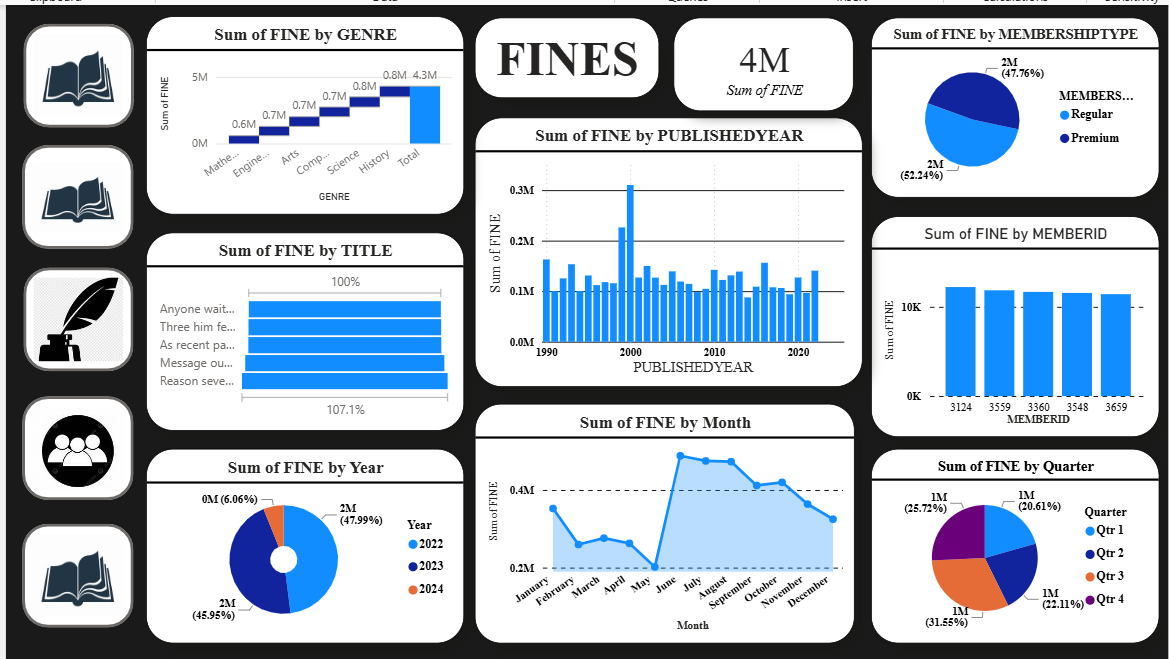

The dashboard page shown, as its layout file describes it:
{"tool":"powerbi","page":{"name":"Page 5","canvas":[1280,720],"ordinal":5},"visuals":[{"type":"funnel","fields":{"Category":["2025-06-02 11_23am (2).TITLE"],"Y":["Sum(2025-06-02 11_23am.FINE)"]},"box":[154.3,250,350,218.6],"z":0},{"type":"pieChart","fields":{"Category":["2025-06-02 11_23am (3).MEMBERSHIPTYPE"],"Y":["Sum(2025-06-02 11_23am.FINE)"]},"box":[952.6,13.5,317.5,198.2],"z":1000},{"type":"clusteredColumnChart","fields":{"Y":["Sum(2025-06-02 11_23am.FINE)"],"Category":["2025-06-02 11_23am.MEMBERID"]},"box":[953,232.3,317.2,243.5],"z":2000},{"type":"donutChart","fields":{"Category":["2025-06-02 11_23am.ISSUEDATE.Variation.Date Hierarchy.Year"],"Y":["Sum(2025-06-02 11_23am.FINE)"]},"box":[154.3,488.6,350,214.3],"z":3000},{"type":"pieChart","fields":{"Category":["2025-06-02 11_23am.ISSUEDATE.Variation.Date Hierarchy.Quarter"],"Y":["Sum(2025-06-02 11_23am.FINE)"]},"box":[953,488.3,317.2,214.3],"z":4000},{"type":"areaChart","fields":{"Y":["Sum(2025-06-02 11_23am.FINE)"],"Category":["2025-06-02 11_23am.ISSUEDATE.Variation.Date Hierarchy.Month"]},"box":[515.7,438.6,418.6,264.3],"z":5000},{"type":"clusteredColumnChart","fields":{"Y":["Sum(2025-06-02 11_23am.FINE)"],"Category":["2025-06-02 11_23am (2).PUBLISHEDYEAR"]},"box":[515.7,124.3,427.1,297.1],"z":6000},{"type":"waterfallChart","fields":{"Category":["2025-06-02 11_23am (2).GENRE"],"Y":["Sum(2025-06-02 11_23am.FINE)"]},"box":[154.3,12.9,350,218.6],"z":7000},{"type":"card","fields":{"Values":["Sum(2025-06-02 11_23am.FINE)"]},"box":[735.7,14.3,198.6,102.9],"z":8000},{"type":"textbox","box":[515.7,14.3,202.9,88.6],"z":9000},{"type":"actionButton","box":[18.9,20,121.4,114.3],"z":10000},{"type":"actionButton","box":[17.9,430.9,122.5,114.3],"z":11000},{"type":"actionButton","box":[17.9,571.3,122.5,114.3],"z":12000},{"type":"actionButton","box":[19.3,289.1,121.1,114.3],"z":13000},{"type":"actionButton","box":[17.9,154.2,122.5,114.3],"z":14000}]}

Visuals, with their boxes in screenshot pixels (x1, y1, x2, y2), scaled from the page's 1280x720 canvas onto the 1169x659 screenshot:
funnel - 2025-06-02 11_23am (2).TITLE x Sum(2025-06-02 11_23am.FINE): bbox(141, 229, 461, 429)
pieChart - 2025-06-02 11_23am (3).MEMBERSHIPTYPE x Sum(2025-06-02 11_23am.FINE): bbox(870, 12, 1160, 194)
clusteredColumnChart - Sum(2025-06-02 11_23am.FINE) x 2025-06-02 11_23am.MEMBERID: bbox(870, 213, 1160, 435)
donutChart - 2025-06-02 11_23am.ISSUEDATE.Variation.Date Hierarchy.Year x Sum(2025-06-02 11_23am.FINE): bbox(141, 447, 461, 643)
pieChart - 2025-06-02 11_23am.ISSUEDATE.Variation.Date Hierarchy.Quarter x Sum(2025-06-02 11_23am.FINE): bbox(870, 447, 1160, 643)
areaChart - Sum(2025-06-02 11_23am.FINE) x 2025-06-02 11_23am.ISSUEDATE.Variation.Date Hierarchy.Month: bbox(471, 401, 853, 643)
clusteredColumnChart - Sum(2025-06-02 11_23am.FINE) x 2025-06-02 11_23am (2).PUBLISHEDYEAR: bbox(471, 114, 861, 386)
waterfallChart - 2025-06-02 11_23am (2).GENRE x Sum(2025-06-02 11_23am.FINE): bbox(141, 12, 461, 212)
card - Sum(2025-06-02 11_23am.FINE): bbox(672, 13, 853, 107)
textbox: bbox(471, 13, 656, 94)
actionButton: bbox(17, 18, 128, 123)
actionButton: bbox(16, 394, 128, 499)
actionButton: bbox(16, 523, 128, 628)
actionButton: bbox(18, 265, 128, 369)
actionButton: bbox(16, 141, 128, 246)
